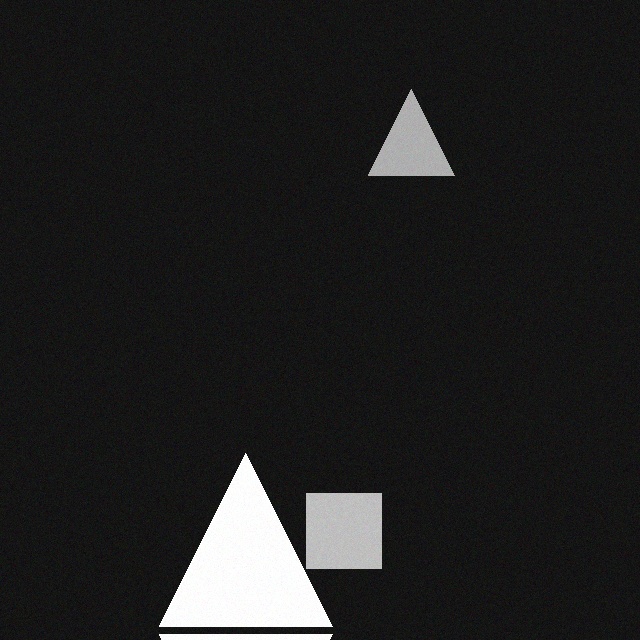square: (305, 502, 380, 577)
triangle: (158, 462, 331, 635), (367, 98, 453, 184)
